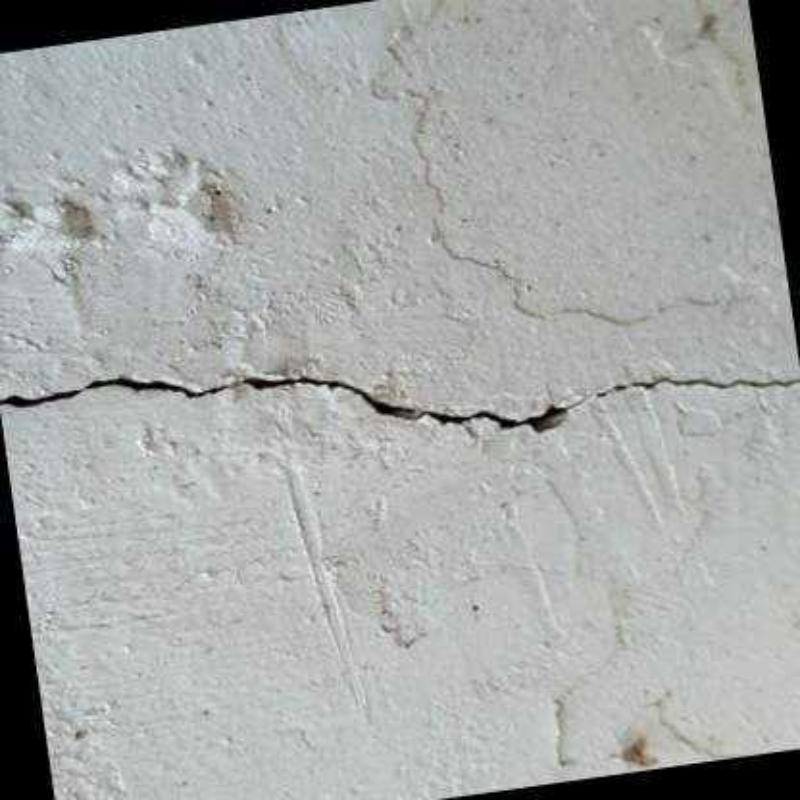crack: (0, 374, 800, 429)
